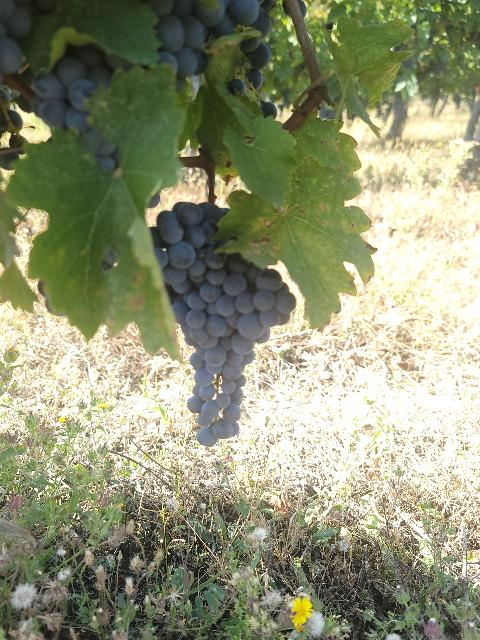grapes: (151, 202, 296, 446)
